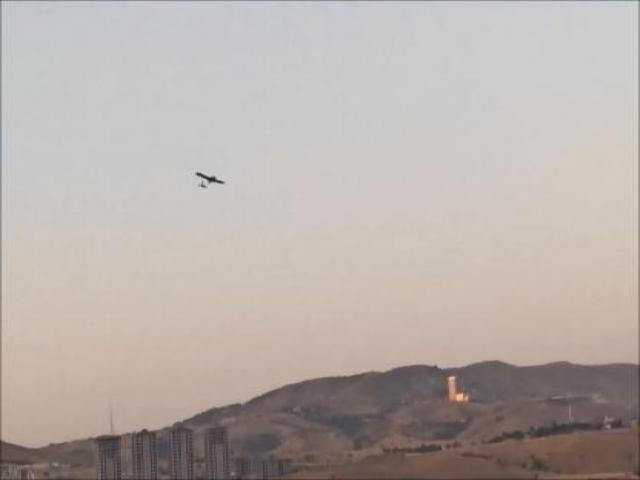uav: (184, 159, 231, 195)
